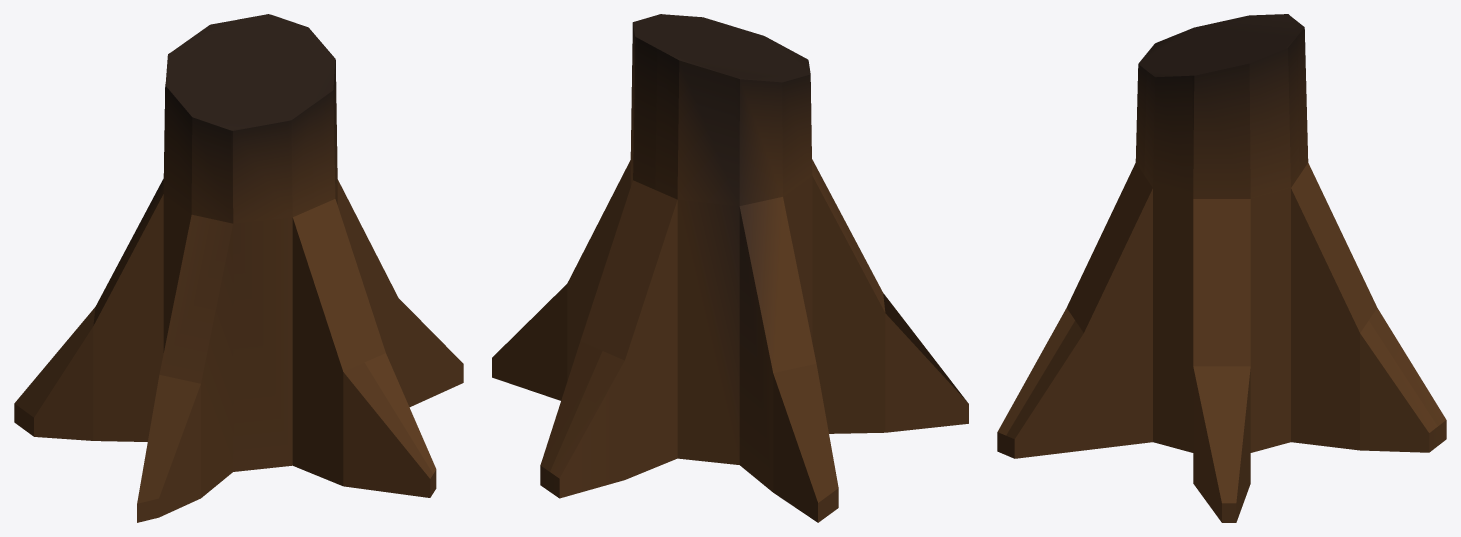
File: Tree_Stump.glb
The picture shows the model from 3 angles, left to right: view 1: azimuth 30°, elevation 25°; view 2: azimuth 150°, elevation 25°; view 3: azimuth 270°, elevation 25°; orthographic projection. The views are drawn at different scales.
Visible parts, largest first — view 1: mesh; view 2: mesh; view 3: mesh.
Part boxes in pixels (left/top/right/bottom): mesh: left=14, top=14, right=463, bottom=522; mesh: left=492, top=14, right=968, bottom=522; mesh: left=997, top=14, right=1446, bottom=522.
Size of the model in its own units: 0.3989 by 0.3779 by 0.3904.
